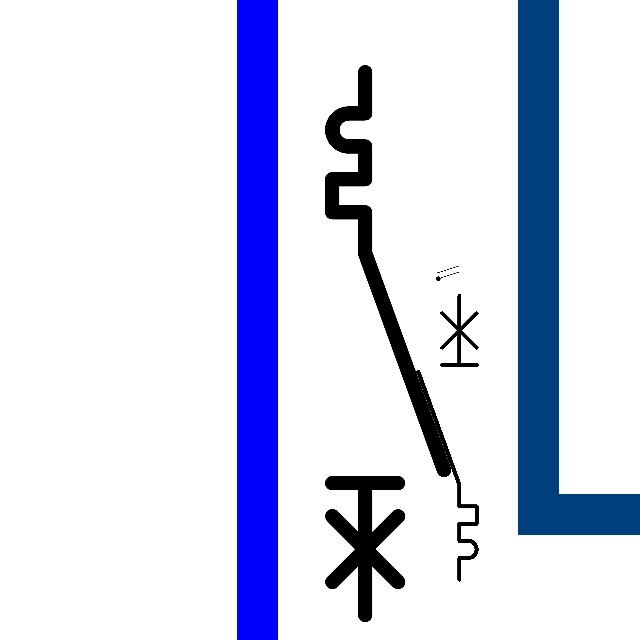interruptor_termomagnetico: (318, 58, 457, 628), (411, 288, 484, 586)
